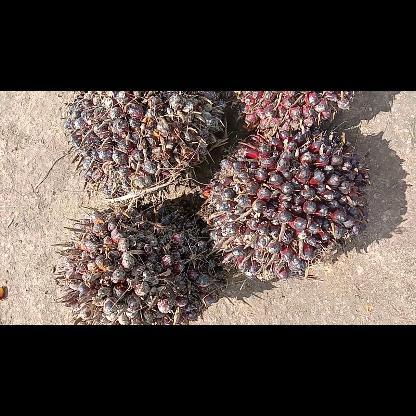Kurang masak: (202, 132, 372, 282), (56, 202, 226, 324), (62, 92, 228, 190), (230, 91, 352, 131)
